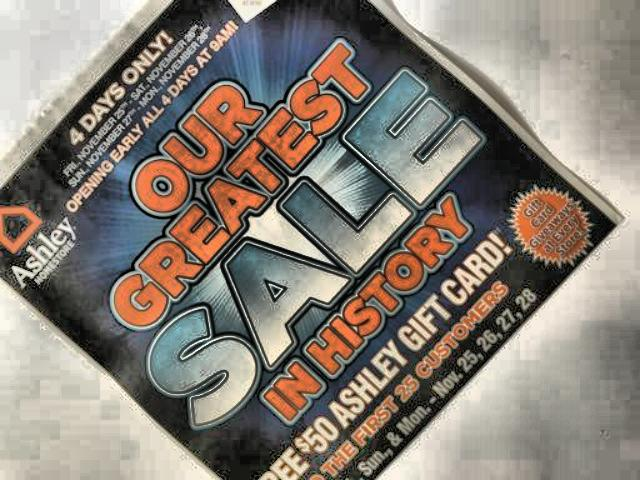Paper: (14, 0, 625, 480)
